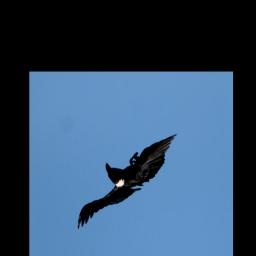Crow: (70, 134, 184, 231)
